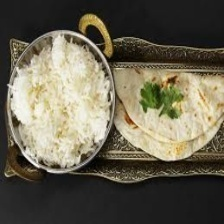rice: (7, 38, 110, 169)
